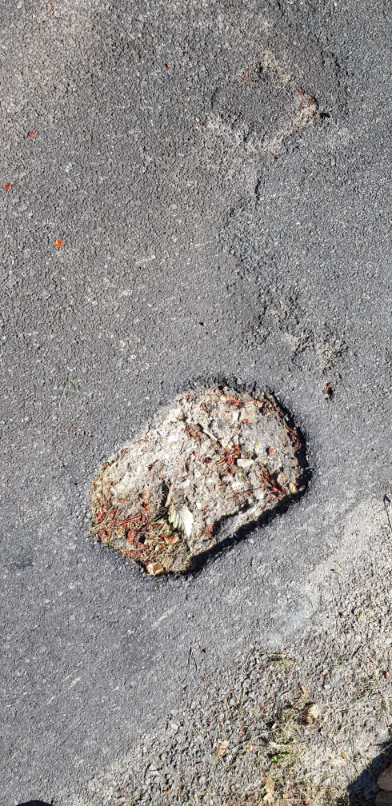pothole: (81, 372, 316, 589)
